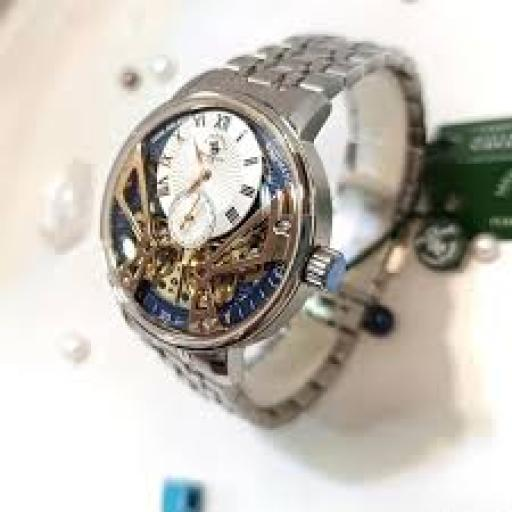KolSaati: (47, 18, 456, 442)
